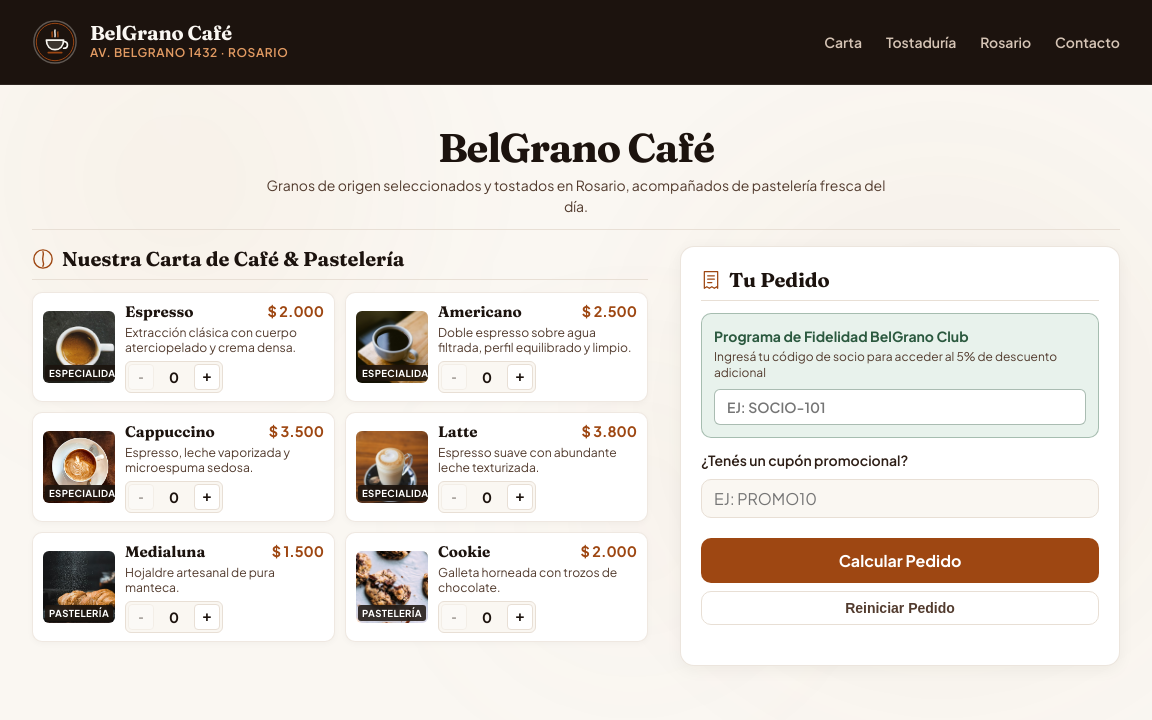
Test case: BelGrano Café - Pruebas End-to-End (Cypress) › Flujo 2: Cliente realiza un pedido inferior al umbral ($10.000) y no obtiene descuento base
Expected: the heading with test id "brand-title" reads "BelGrano Café", left=438, top=123, right=714, bottom=172
// 1 Americano ($2.500)
Click the button with test id "btn-inc-americano" at (520,377), box left=507, top=364, right=533, bottom=390
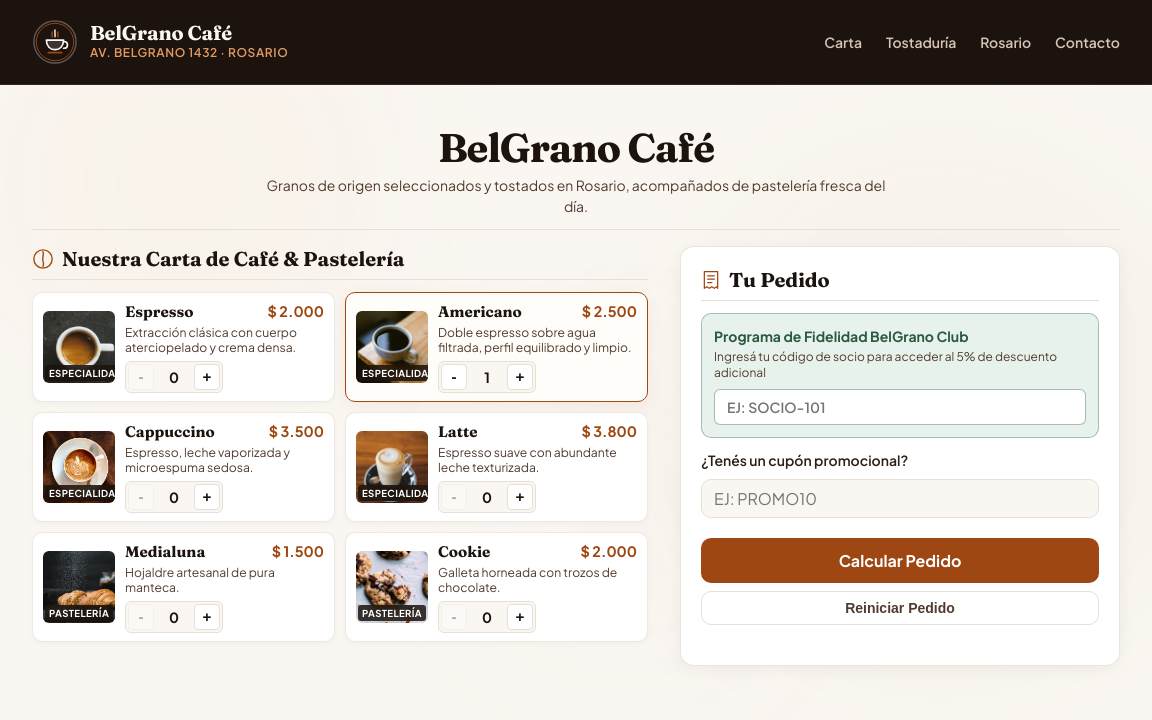
Click the button with test id "btn-calculate" at (900,561), box left=701, top=538, right=1099, bottom=583
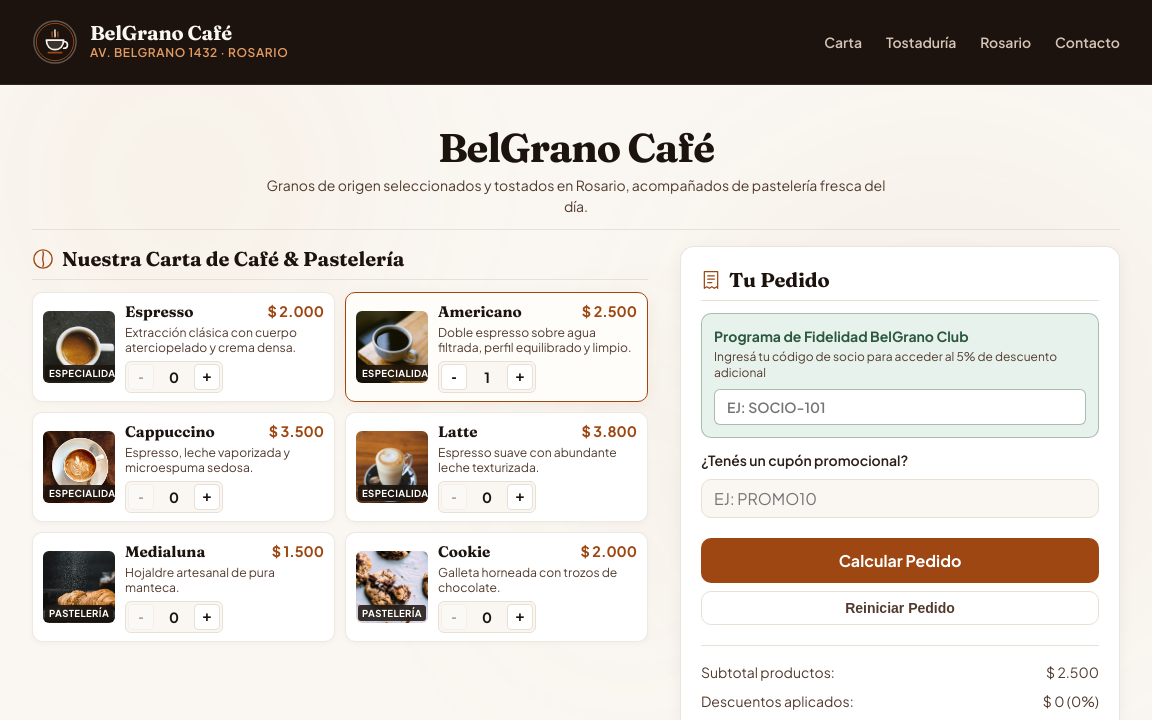
Expected: the element with test id "order-receipt" is shown, left=701, top=645, right=1099, bottom=719
Expected: the text with test id "receipt-subtotal" shows "2.500", left=1046, top=662, right=1099, bottom=683
Expected: the element with test id "receipt-no-discount" shows "0%", left=701, top=691, right=1099, bottom=712
